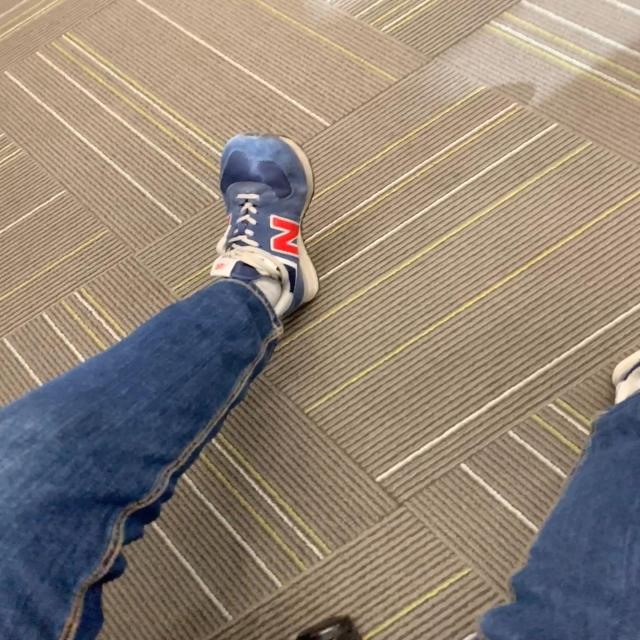shoe: (209, 136, 319, 321)
